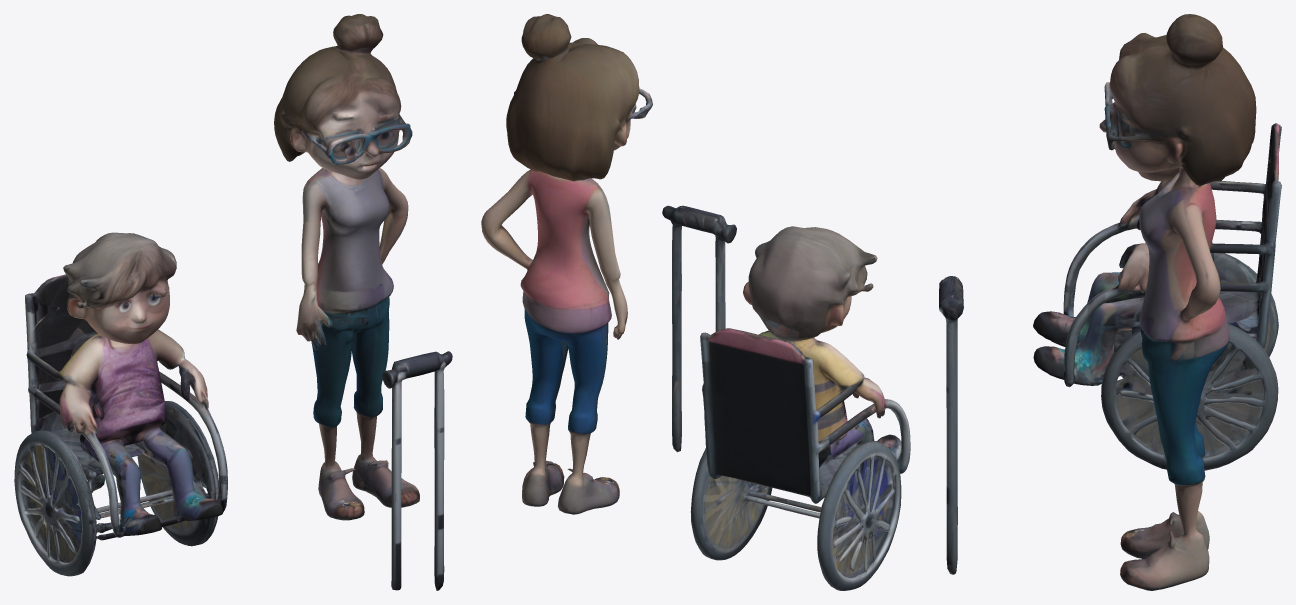
The model's file is disabled.glb.
The picture shows the model from 3 angles, left to right: view 1: azimuth 30°, elevation 25°; view 2: azimuth 150°, elevation 25°; view 3: azimuth 270°, elevation 25°; orthographic projection. The views are drawn at different scales.
Size of the model in its own units: 1.6 by 2.05 by 1.12.
1 material, 1 textured.
